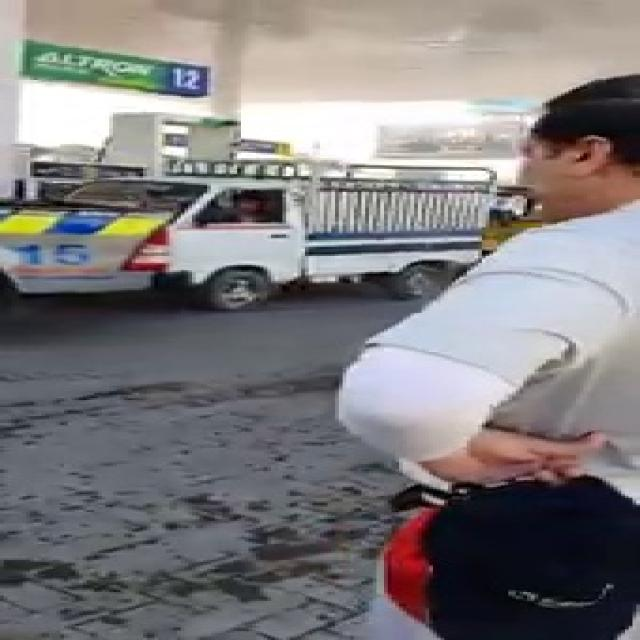police: (0, 197, 171, 321)
